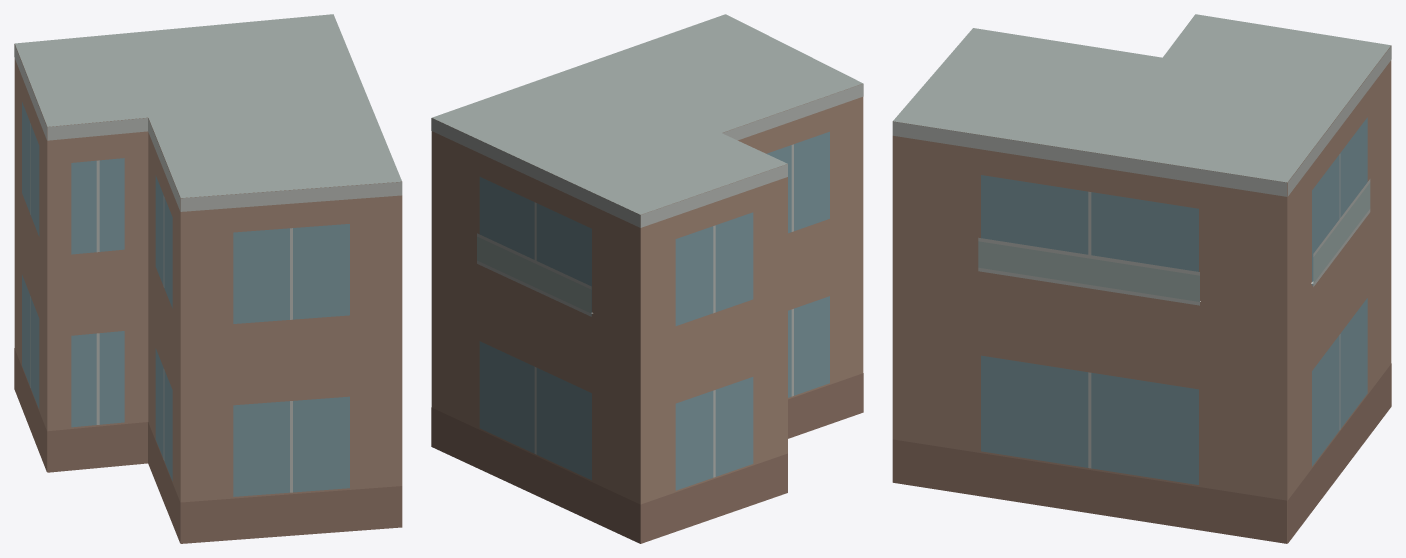
File: survey-upis-32550118.glb
3 renders of one model, left to right at view 1: azimuth 30°, elevation 25°; view 2: azimuth 150°, elevation 25°; view 3: azimuth 270°, elevation 25°, orthographic. The views are drawn at different scales.
Visible parts, largest first — view 1: survey-upis-32550118.tmp; view 2: survey-upis-32550118.tmp; view 3: survey-upis-32550118.tmp.
Boxes of the visible parts, bbox=[...] form: survey-upis-32550118.tmp: bbox=[14, 14, 402, 543]; survey-upis-32550118.tmp: bbox=[431, 14, 863, 543]; survey-upis-32550118.tmp: bbox=[892, 14, 1391, 543].
Size of the model in its own units: 6.11 by 6.1 by 7.64.
